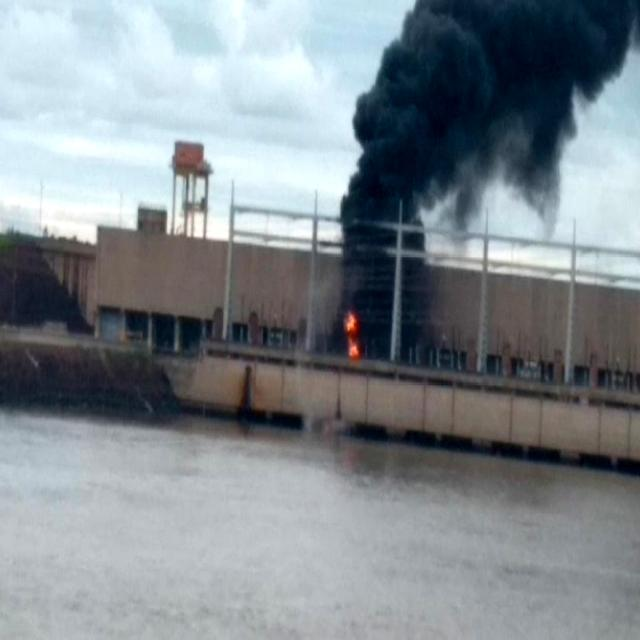Fire: (342, 309, 367, 361)
Smoke: (334, 0, 640, 335)
